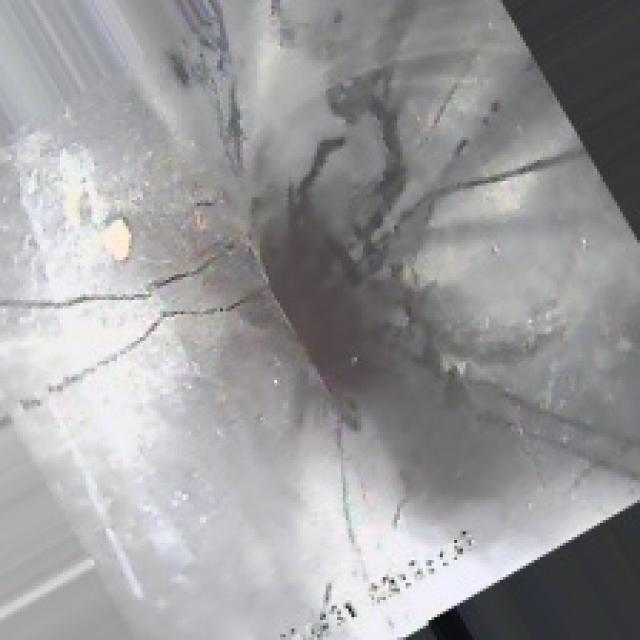shape_deformation: (123, 83, 526, 491)
